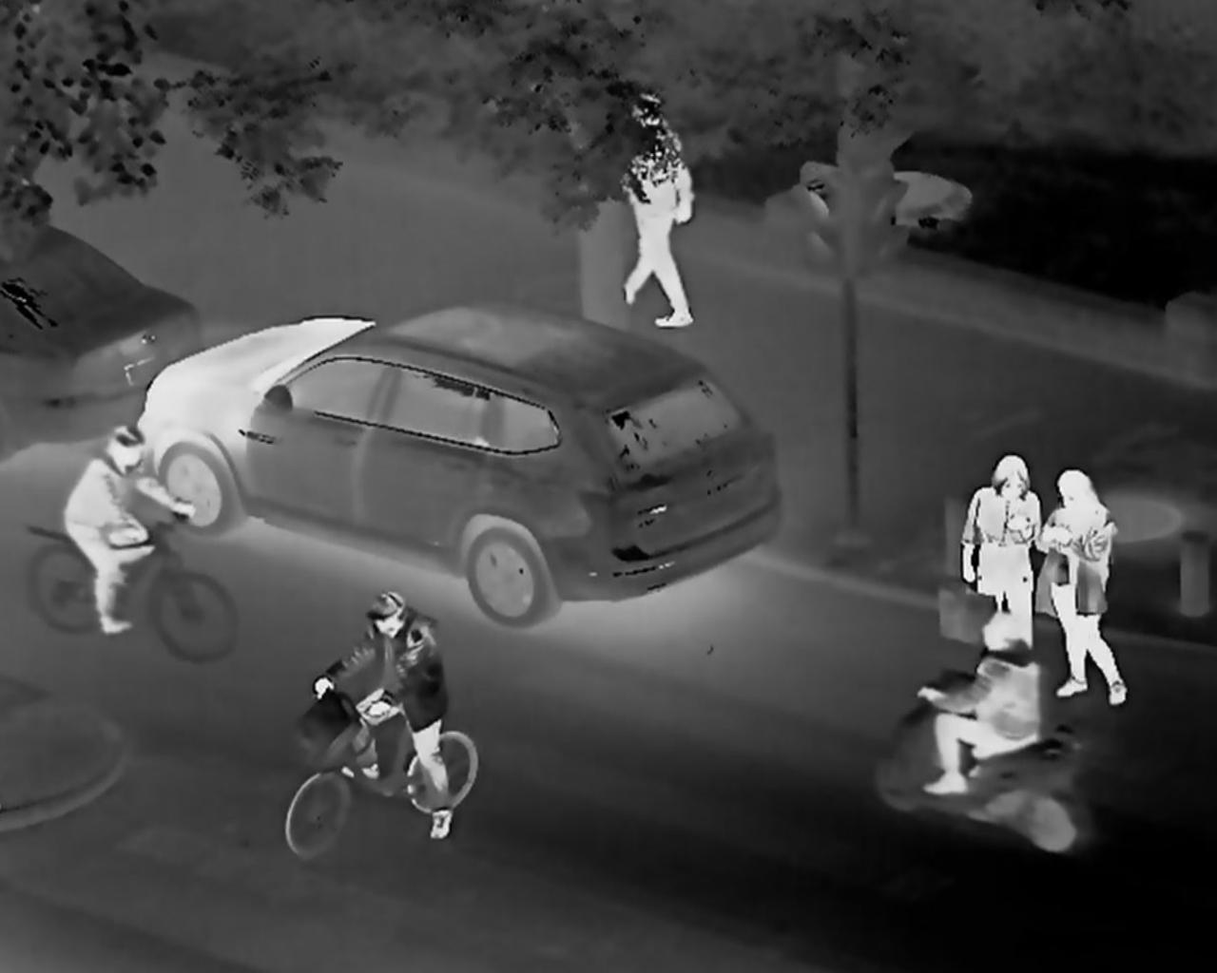person: (326, 572, 486, 825), (624, 93, 771, 367), (60, 416, 193, 637), (938, 456, 1043, 636), (950, 645, 1045, 778), (1069, 473, 1136, 645)
